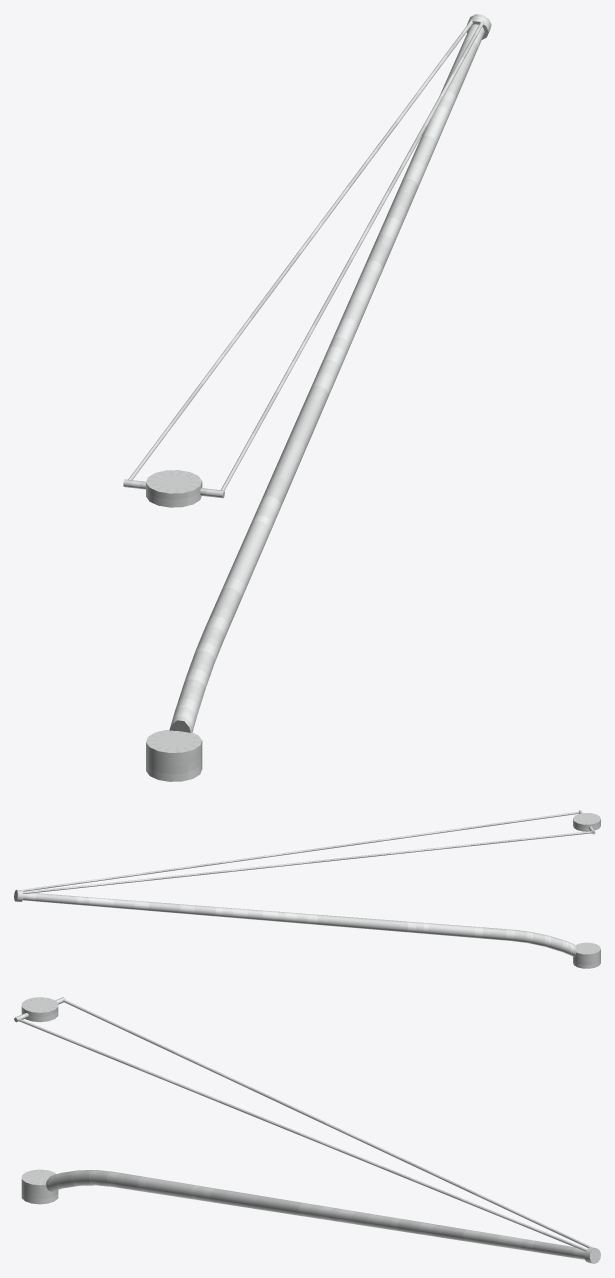
The model's file is nycsignalarm_diagonal12_inv.obj.
3 views of the same model, one above another, from view 1: azimuth 30°, elevation 25°; view 2: azimuth 150°, elevation 25°; view 3: azimuth 270°, elevation 25° (orthographic). The views are drawn at different scales.
Parts seen in each view (by area): view 1: nycsignalarm_diagonal12_inv; view 2: nycsignalarm_diagonal12_inv; view 3: nycsignalarm_diagonal12_inv.
Boxes of the visible parts, bbox=[...] form: nycsignalarm_diagonal12_inv: bbox=[123, 14, 491, 781]; nycsignalarm_diagonal12_inv: bbox=[14, 810, 600, 968]; nycsignalarm_diagonal12_inv: bbox=[14, 997, 600, 1263].
Bounding box in the file's own units: 1 × 0.36 × 1.
